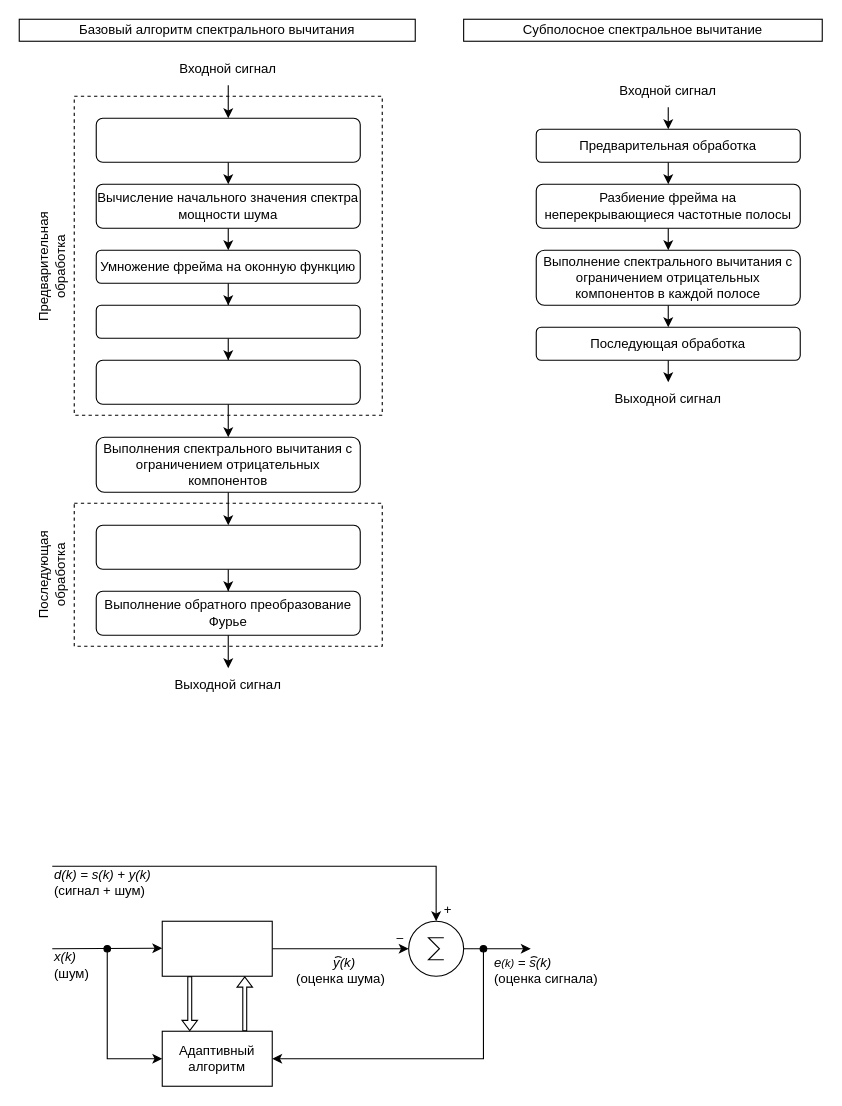
The diagram is 842 pixels wide and 1106 high, and some of its shapes have lost their labels. Here are the shapes that lost their labels. From the top down, the centre of each, then its label:
At point (227, 139): "Разбиение сигнала на перекрывающиеся фреймы".
At point (227, 321): "Выполнение преобразования Фурье".
At point (227, 381): "Вычисление сегментного отношения сигнал/шум".
At point (227, 546): "Новая оценка спектра мощности шума, если во фрейме отсутствовала речь".
At point (216, 948): "Цифровой фильтр".
